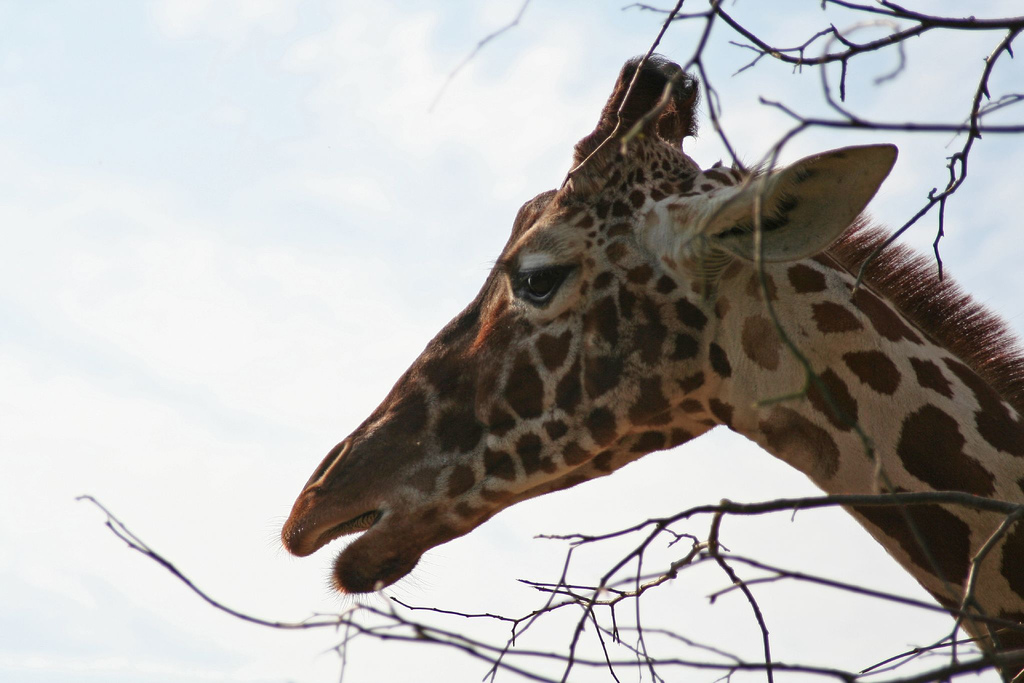giraffe: (255, 92, 1023, 593)
